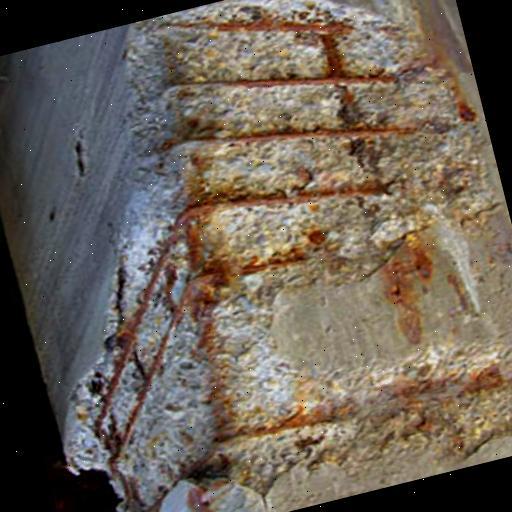spalling: (70, 11, 512, 512)
